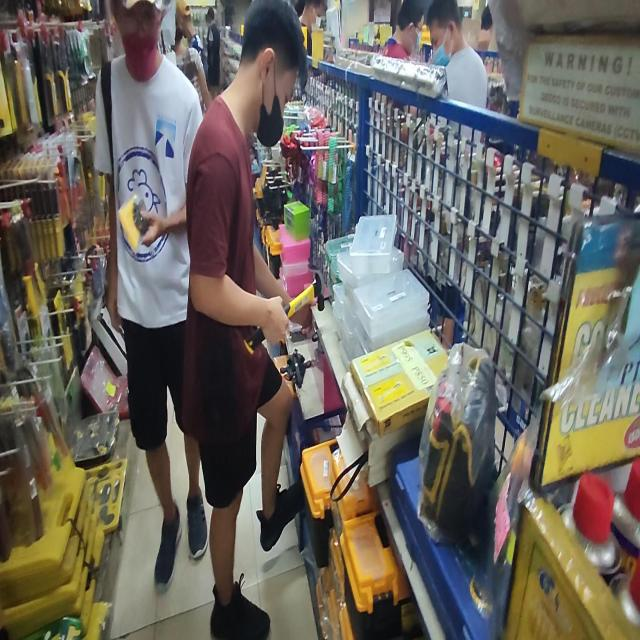hammer: (244, 272, 325, 354)
